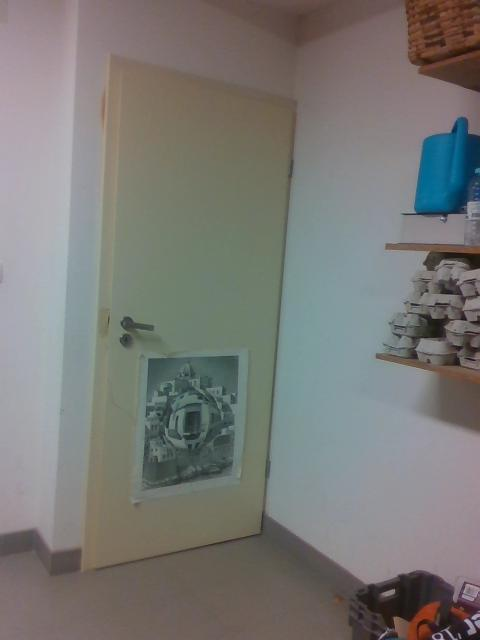closed_door: (77, 52, 297, 582)
